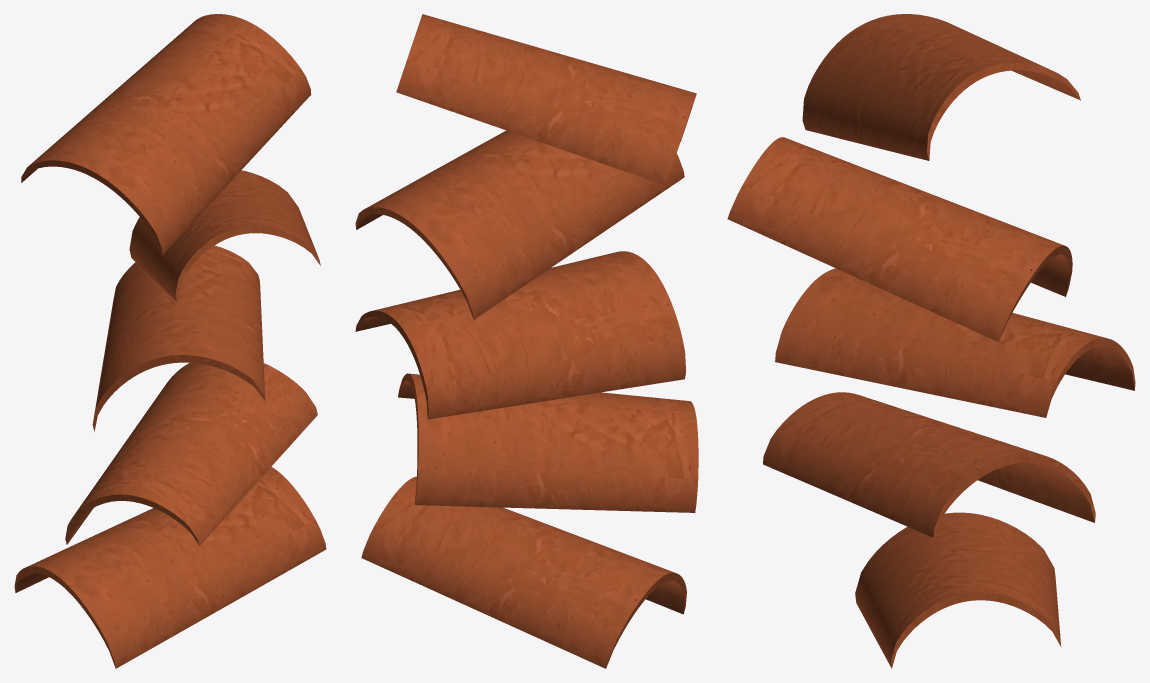
The model's file is COB-CUM-001_anim.glb.
The picture shows the model from 3 angles, left to right: view 1: azimuth 30°, elevation 25°; view 2: azimuth 150°, elevation 25°; view 3: azimuth 270°, elevation 25°; orthographic projection. The views are drawn at different scales.
Parts seen in each view (by area): view 1: COB-CUM-001_anim4, COB-CUM-001_anim0, COB-CUM-001_anim1, COB-CUM-001_anim2, COB-CUM-001_anim3; view 2: COB-CUM-001_anim2, COB-CUM-001_anim1, COB-CUM-001_anim0, COB-CUM-001_anim3, COB-CUM-001_anim4; view 3: COB-CUM-001_anim3, COB-CUM-001_anim2, COB-CUM-001_anim1, COB-CUM-001_anim4, COB-CUM-001_anim0.
Part boxes in pixels (x1=…): COB-CUM-001_anim4: x1=21, y1=14, x2=311, y2=255; COB-CUM-001_anim0: x1=14, y1=467, x2=326, y2=668; COB-CUM-001_anim1: x1=65, y1=362, x2=317, y2=545; COB-CUM-001_anim2: x1=92, y1=245, x2=265, y2=431; COB-CUM-001_anim3: x1=129, y1=170, x2=320, y2=301; COB-CUM-001_anim2: x1=355, y1=251, x2=685, y2=419; COB-CUM-001_anim1: x1=398, y1=373, x2=698, y2=512; COB-CUM-001_anim0: x1=361, y1=476, x2=686, y2=668; COB-CUM-001_anim3: x1=355, y1=130, x2=684, y2=319; COB-CUM-001_anim4: x1=396, y1=14, x2=696, y2=185; COB-CUM-001_anim3: x1=727, y1=137, x2=1072, y2=341; COB-CUM-001_anim2: x1=775, y1=268, x2=1135, y2=417; COB-CUM-001_anim1: x1=763, y1=392, x2=1095, y2=537; COB-CUM-001_anim4: x1=802, y1=14, x2=1080, y2=160; COB-CUM-001_anim0: x1=855, y1=512, x2=1061, y2=668.
Bounding box in the file's own units: 0.4928 × 0.9182 × 0.5276.
1 material, 1 textured.
